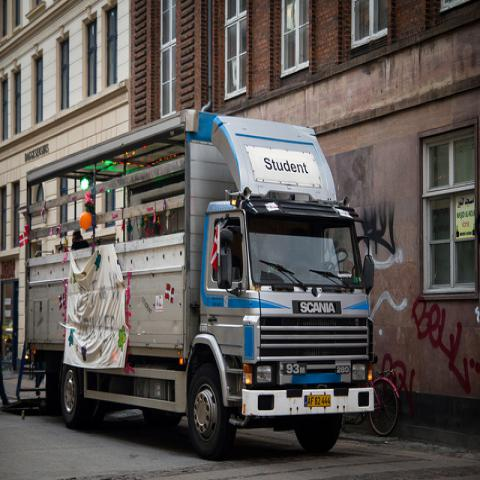truck: (17, 104, 380, 432)
